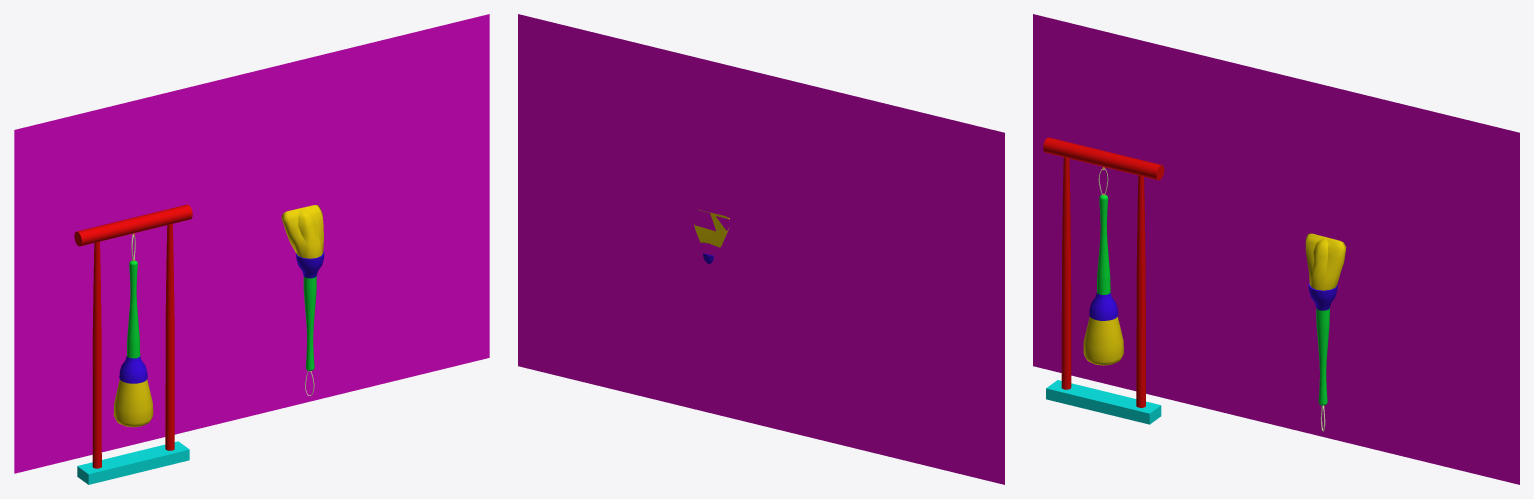
Rendered from Brush.fbx.
3 views of the same model, side by side, from view 1: azimuth 30°, elevation 25°; view 2: azimuth 150°, elevation 25°; view 3: azimuth 330°, elevation 25° (orthographic). The views are drawn at different scales.
Parts seen in each view (by area): view 1: Paint, LP, LP_Base, LP_Right_Stand, LP_Left_Stand, LP_Up_Stand, LP_Brush, LP_Handle, LP_Head; view 2: Paint, LP; view 3: Paint, LP, LP_Base, LP_Right_Stand, LP_Left_Stand, LP_Up_Stand, LP_Brush, LP_Handle, LP_Head.
Part boxes in pixels (box(x1,y1,x2,y2)): Paint: box(14, 14, 489, 473); LP: box(132, 205, 324, 396); LP_Base: box(77, 441, 189, 484); LP_Right_Stand: box(92, 241, 101, 468); LP_Left_Stand: box(165, 224, 174, 450); LP_Up_Stand: box(74, 204, 192, 246); LP_Brush: box(113, 379, 153, 427); LP_Handle: box(127, 260, 140, 358); LP_Head: box(119, 356, 147, 383); Paint: box(518, 14, 1004, 484); LP: box(694, 210, 729, 263); Paint: box(1033, 14, 1519, 484); LP: box(1102, 167, 1346, 431); LP_Base: box(1046, 380, 1161, 424); LP_Right_Stand: box(1061, 157, 1071, 389); LP_Left_Stand: box(1136, 175, 1145, 407); LP_Up_Stand: box(1043, 137, 1164, 180); LP_Brush: box(1083, 317, 1123, 365); LP_Handle: box(1097, 194, 1110, 294); LP_Head: box(1089, 292, 1118, 320).
Size of the model in its own units: 33.73 by 23.32 by 4.39.
